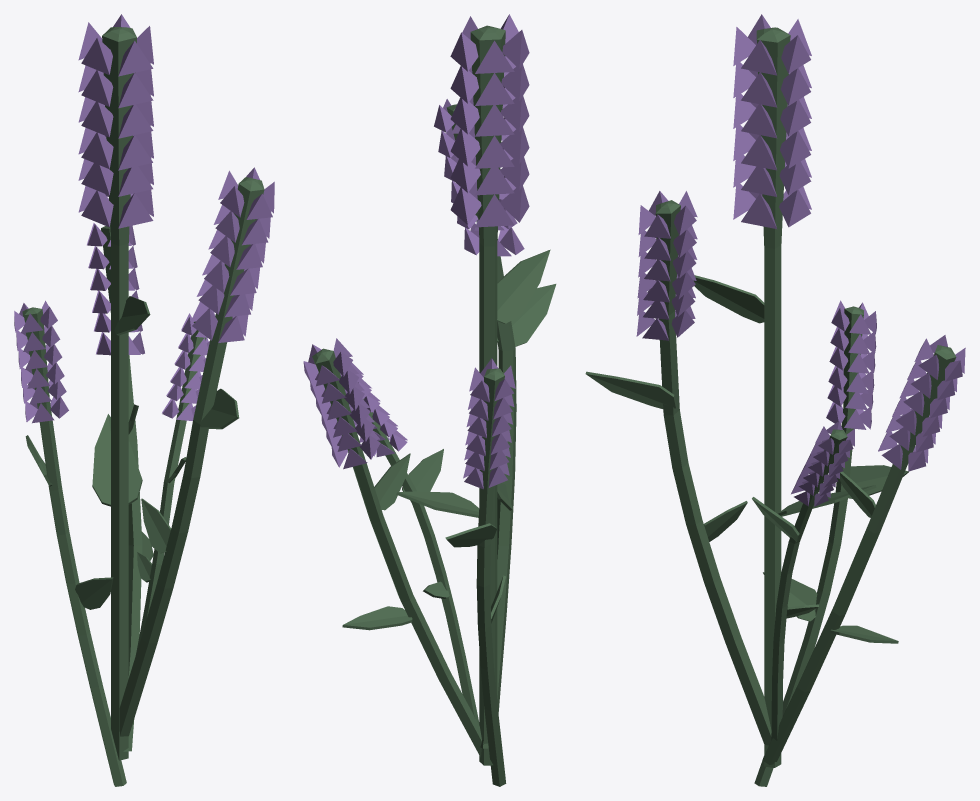
Rendered from lavendel.fbx.
3 renders of one model, left to right at view 1: azimuth 30°, elevation 25°; view 2: azimuth 150°, elevation 25°; view 3: azimuth 270°, elevation 25°, orthographic.
Parts seen in each view (by area): view 1: lavendel, Cone.002, Cone.003, Cone.004, Cone.005; view 2: lavendel, Cone.004, Cone.003, Cone.002, Cone.005; view 3: lavendel, Cone.002, Cone.004, Cone.003, Cone.005.
Boxes of the visible parts, x1=… form: lavendel: x1=78, y1=14, x2=153, y2=760; Cone.002: x1=119, y1=167, x2=274, y2=736; Cone.003: x1=14, y1=300, x2=126, y2=786; Cone.004: x1=87, y1=223, x2=153, y2=751; Cone.005: x1=132, y1=313, x2=209, y2=724; lavendel: x1=396, y1=14, x2=550, y2=765; Cone.004: x1=303, y1=338, x2=481, y2=757; Cone.003: x1=445, y1=358, x2=515, y2=786; Cone.002: x1=434, y1=99, x2=556, y2=748; Cone.005: x1=346, y1=363, x2=479, y2=724; lavendel: x1=693, y1=14, x2=876, y2=767; Cone.002: x1=585, y1=191, x2=771, y2=745; Cone.004: x1=762, y1=335, x2=965, y2=764; Cone.003: x1=754, y1=300, x2=908, y2=786; Cone.005: x1=752, y1=421, x2=854, y2=740.
Size of the model in its own units: 19.94 by 74.32 by 33.66.
